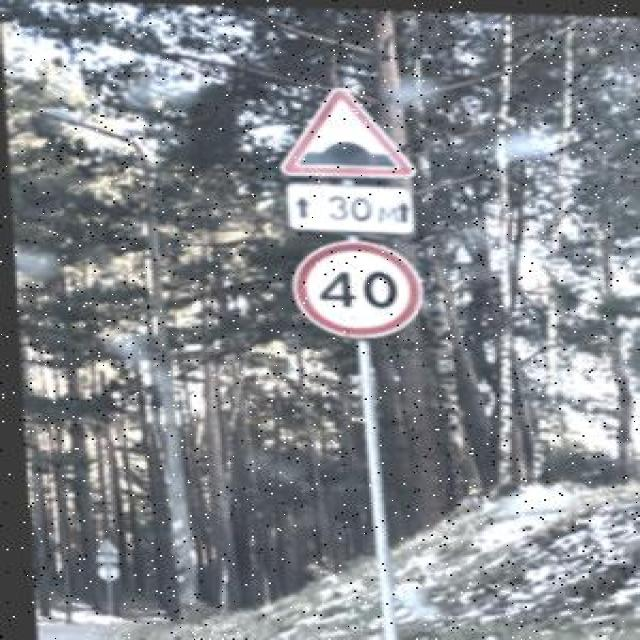speed limit 40: (292, 240, 424, 339)
